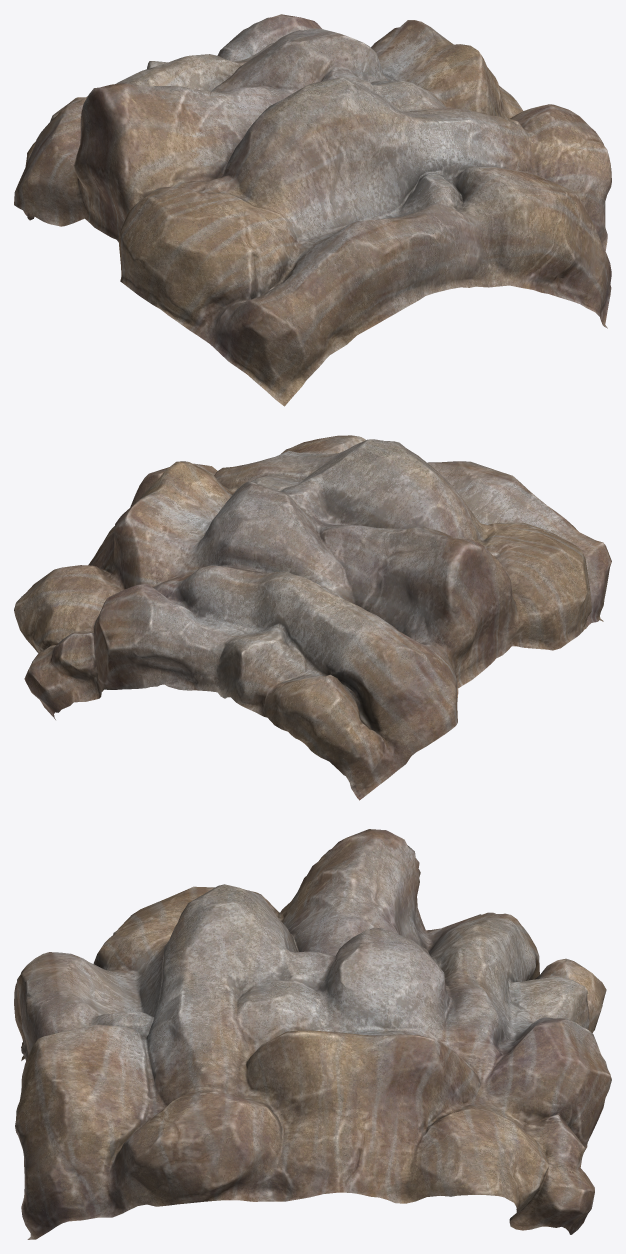
The model's file is cave_ravine_wall_sand_02_domed.dae.
3 views of the same model, one above another, from view 1: azimuth 30°, elevation 25°; view 2: azimuth 150°, elevation 25°; view 3: azimuth 270°, elevation 25° (orthographic). The views are drawn at different scales.
Parts seen in each view (by area): view 1: wall_2_domed; view 2: wall_2_domed; view 3: wall_2_domed.
Boxes of the visible parts, x1,y1,x2,y2 form: wall_2_domed: (14, 14, 611, 406); wall_2_domed: (14, 435, 611, 800); wall_2_domed: (14, 829, 611, 1239).
Size of what is drawn, in the model's own units: 3.81 by 1.73 by 3.82.
